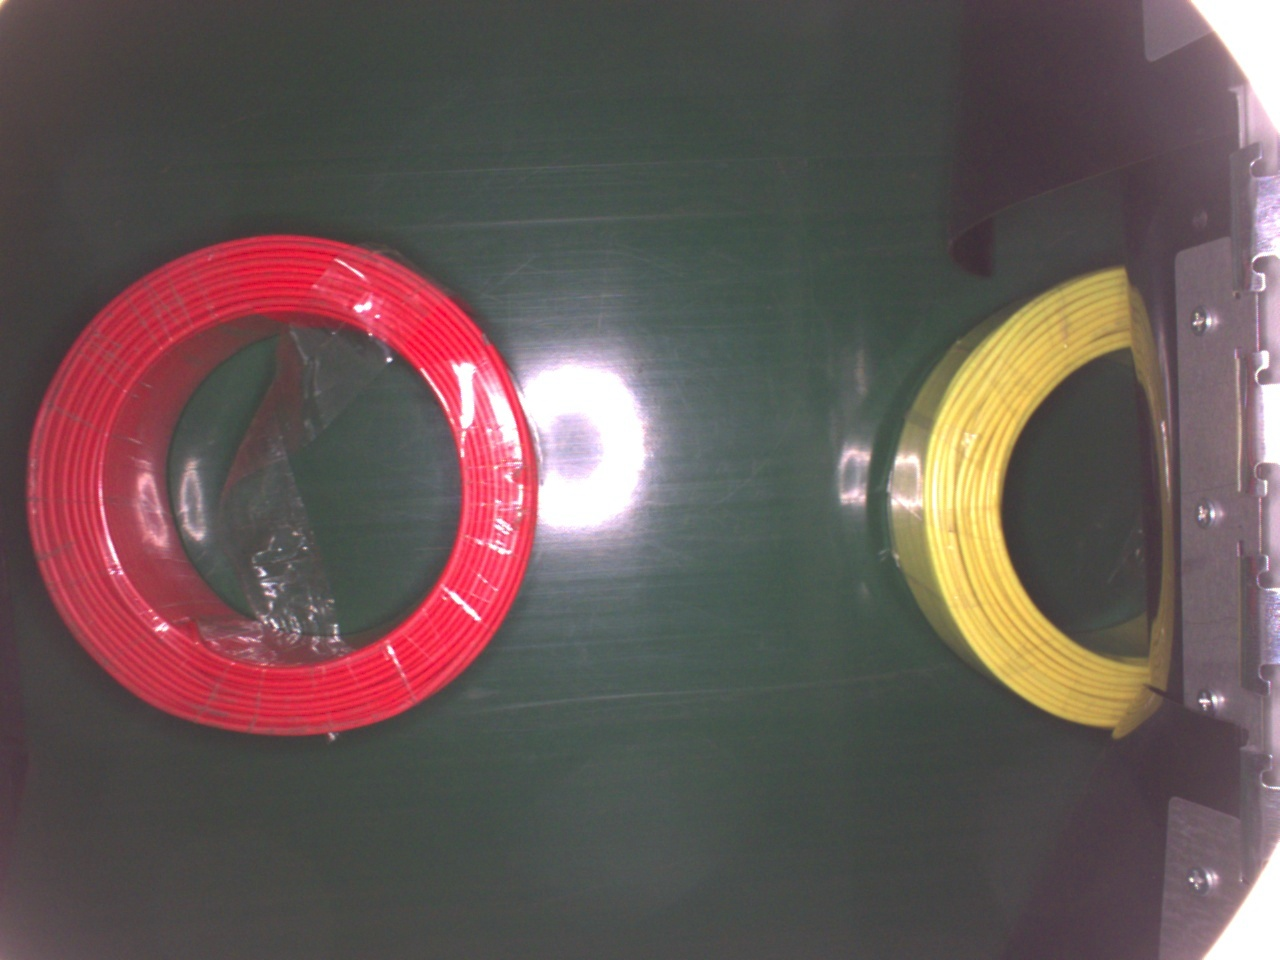red: (28, 232, 538, 738)
yellow: (886, 264, 1162, 731)
